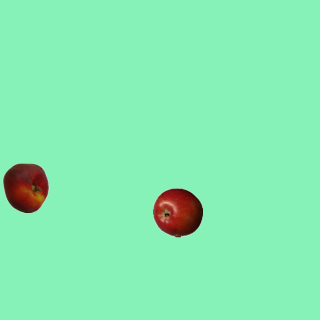Apple Braeburn: (152, 187, 202, 237)
Nectarine Flat: (0, 162, 50, 212)
